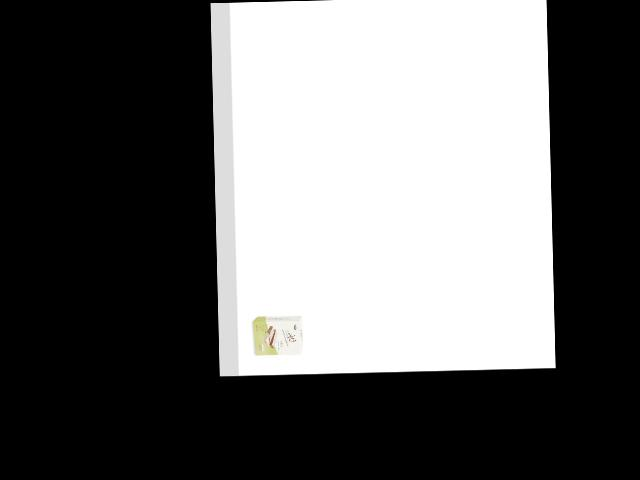chocolate: (250, 312, 304, 360)
